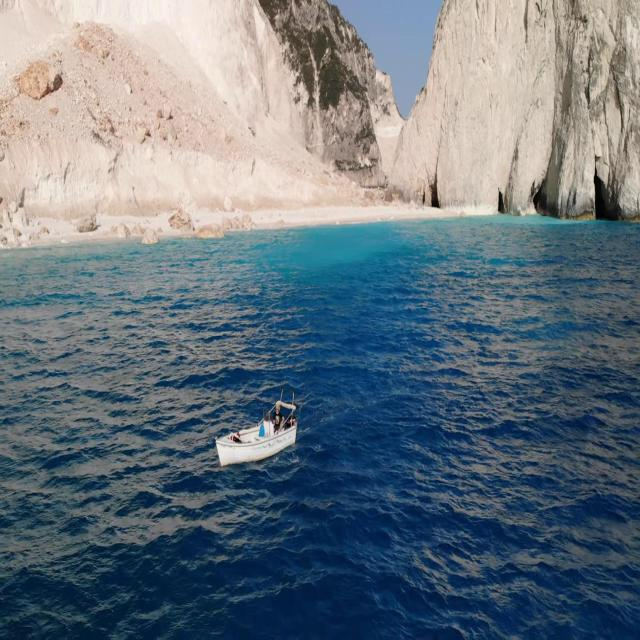boat: (225, 394, 299, 474)
